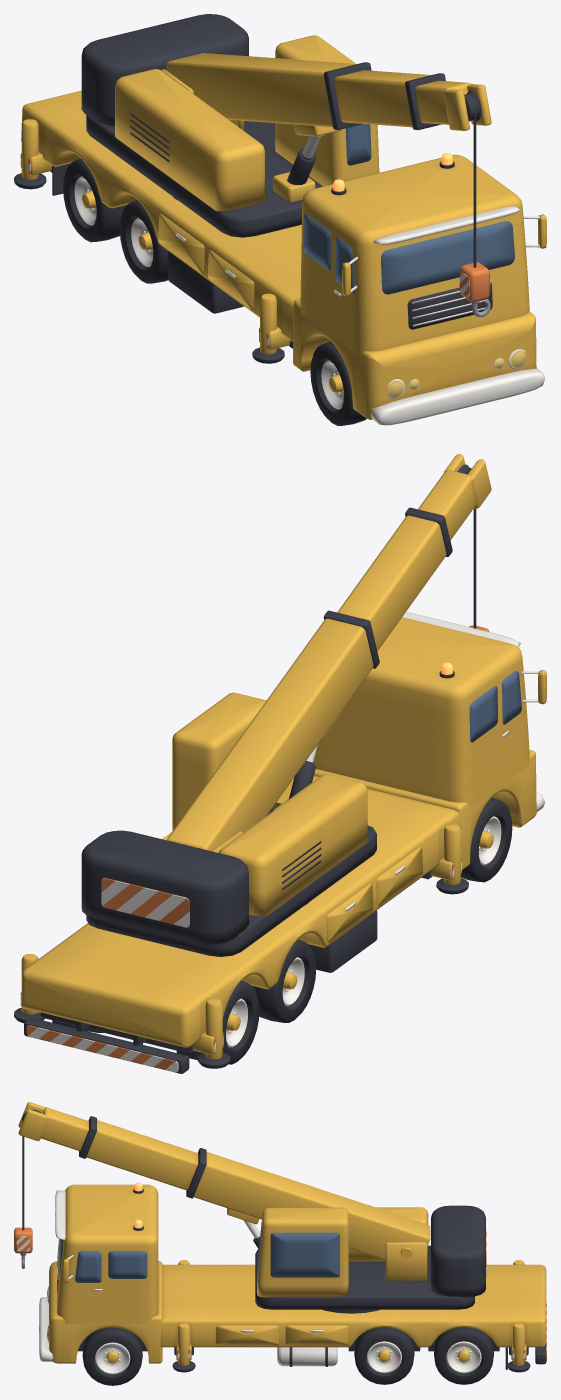
File: crane-truck.glb
The picture shows the model from 3 angles, top to bottom: view 1: azimuth 30°, elevation 25°; view 2: azimuth 150°, elevation 25°; view 3: azimuth 270°, elevation 25°; orthographic projection. The views are drawn at different scales.
Visible parts, largest first — view 1: crane-truck_body, crane-truck_upper, crane-truck_boom, crane-truck_windows, crane-truck_wheel_r2r, crane-truck_wheel_fr, crane-truck_wheel_r1r, crane-truck_hook, crane-truck_upper_windows, crane-truck_headlights; view 2: crane-truck_body, crane-truck_upper, crane-truck_boom, crane-truck_wheel_r1r, crane-truck_wheel_fr, crane-truck_wheel_r2r, crane-truck_windows; view 3: crane-truck_body, crane-truck_upper, crane-truck_boom, crane-truck_upper_windows, crane-truck_wheel_fl, crane-truck_wheel_r1l, crane-truck_wheel_r2l, crane-truck_windows, crane-truck_hook.
Boxes of the visible parts, x1,y1,x2,y2 form: crane-truck_body: (14,90,546,425); crane-truck_upper: (81,14,379,237); crane-truck_boom: (166,53,491,157); crane-truck_windows: (303,214,514,294); crane-truck_wheel_r2r: (63,158,126,242); crane-truck_wheel_fr: (310,341,366,425); crane-truck_wheel_r1r: (119,200,168,283); crane-truck_hook: (459,112,490,316); crane-truck_upper_windows: (345,124,371,165); crane-truck_headlights: (387,349,526,399); crane-truck_body: (14,612,546,1073); crane-truck_upper: (81,692,376,956); crane-truck_boom: (167,454,491,851); crane-truck_wheel_r1r: (252,939,316,1022); crane-truck_wheel_fr: (461,797,512,882); crane-truck_wheel_r2r: (222,981,259,1064); crane-truck_windows: (469,670,521,742); crane-truck_body: (39,1184,546,1372); crane-truck_upper: (253,1205,486,1313); crane-truck_boom: (18,1102,430,1260); crane-truck_upper_windows: (258,1222,339,1277); crane-truck_wheel_fl: (82,1327,142,1385); crane-truck_wheel_r1l: (354,1327,414,1384); crane-truck_wheel_r2l: (434,1327,493,1384); crane-truck_windows: (60,1239,147,1282); crane-truck_hook: (14,1136,32,1268).
Bounding box in the file's own units: 3.13 × 5.09 × 9.71.
28 materials, 4 textured.
